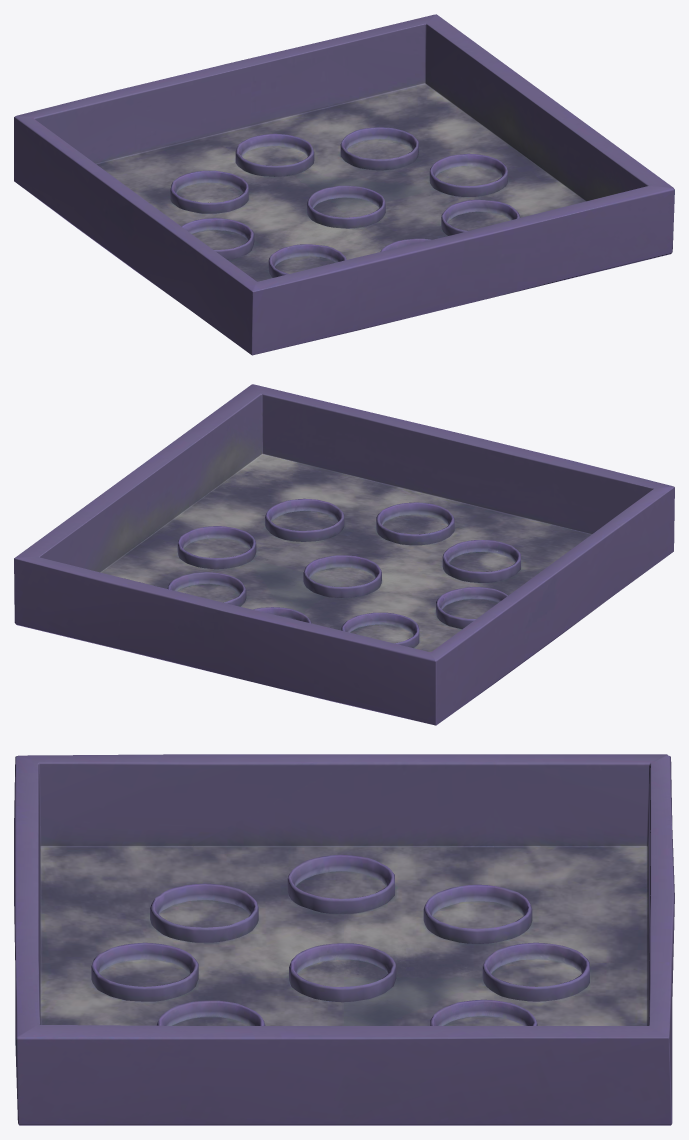
The model's file is selected.glb.
3 renders of one model, top to bottom at view 1: azimuth 30°, elevation 25°; view 2: azimuth 150°, elevation 25°; view 3: azimuth 270°, elevation 25°, orthographic. The views are drawn at different scales.
Visible parts, largest first — view 1: tripo_node_326c3deb-c0a1-4e97-b5d1-a4954e5f81e3; view 2: tripo_node_326c3deb-c0a1-4e97-b5d1-a4954e5f81e3; view 3: tripo_node_326c3deb-c0a1-4e97-b5d1-a4954e5f81e3.
Boxes of the visible parts, x1,y1,x2,y2 form: tripo_node_326c3deb-c0a1-4e97-b5d1-a4954e5f81e3: (14, 14, 674, 355); tripo_node_326c3deb-c0a1-4e97-b5d1-a4954e5f81e3: (14, 384, 674, 725); tripo_node_326c3deb-c0a1-4e97-b5d1-a4954e5f81e3: (14, 754, 674, 1125).
Bounding box in the file's own units: 0.998 × 0.1504 × 0.9863.
Materials: 1 (1 with a texture image).
